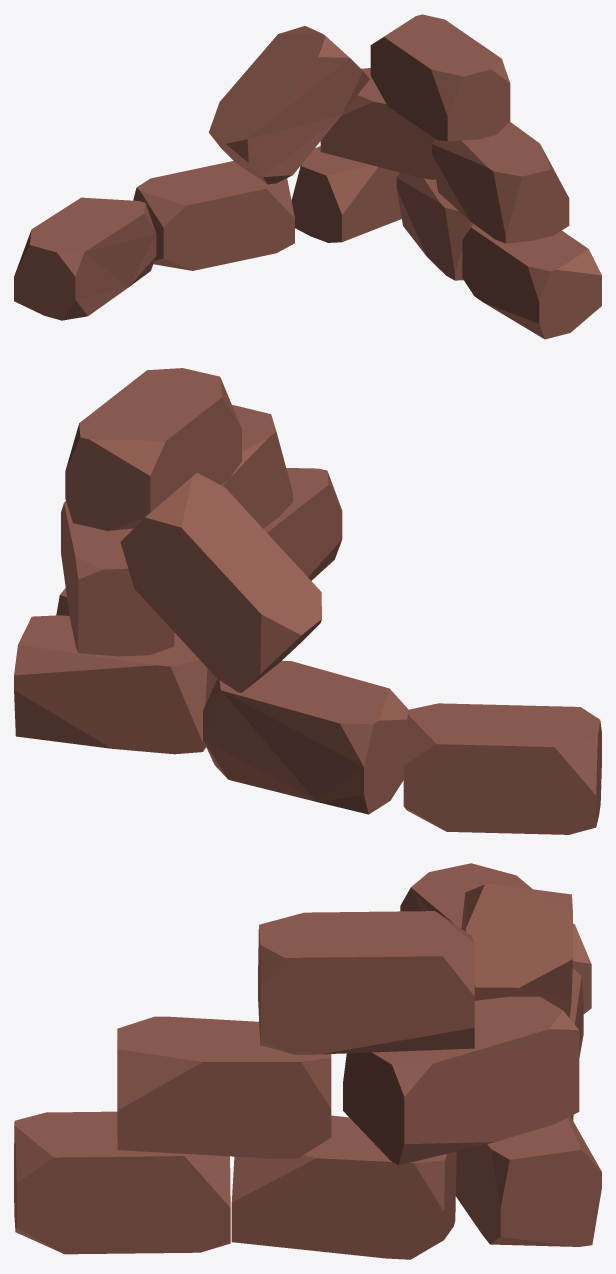
File: Brick_B_11.FBX
3 views of the same model, one above another, from view 1: azimuth 30°, elevation 25°; view 2: azimuth 150°, elevation 25°; view 3: azimuth 270°, elevation 25° (orthographic). The views are drawn at different scales.
Parts seen in each view (by area): view 1: Brick_B_11; view 2: Brick_B_11; view 3: Brick_B_11.
Part boxes in pixels (box(x1,y1,x2,y2)): Brick_B_11: box(14, 14, 601, 339); Brick_B_11: box(14, 368, 601, 834); Brick_B_11: box(14, 863, 601, 1259).
Bounding box in the file's own units: 3.91 × 1.71 × 3.12.
